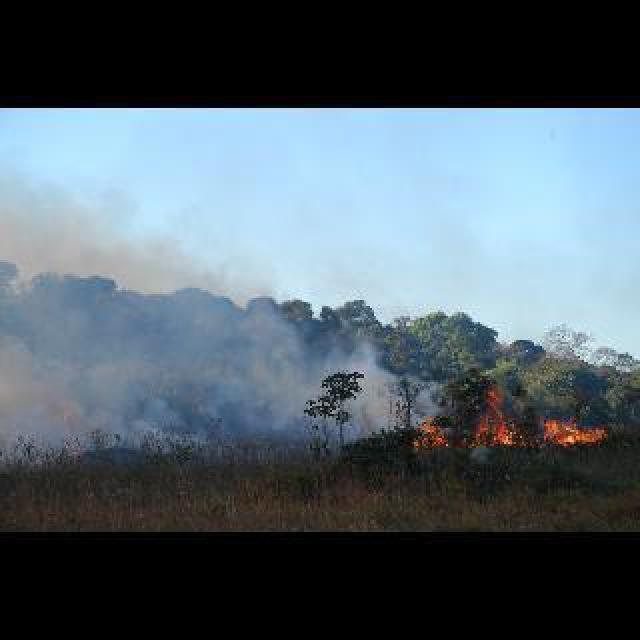Fire: (482, 414, 607, 452)
Smoke: (1, 260, 423, 456)
